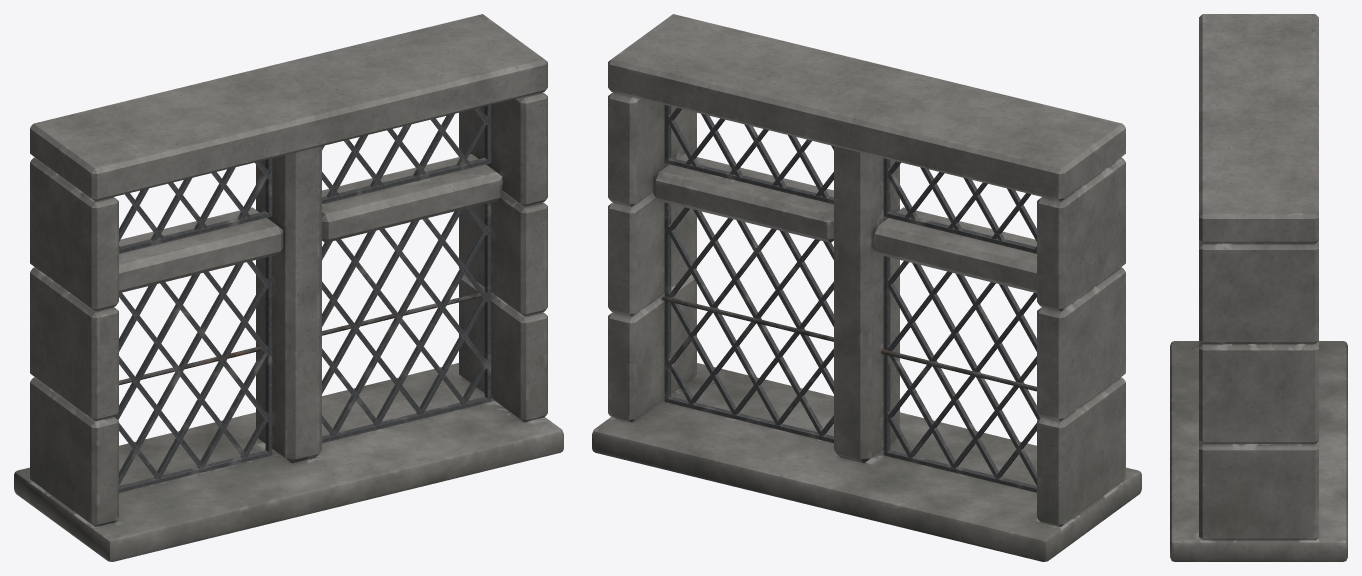
File: window_stone.glb
The picture shows the model from 3 angles, left to right: view 1: azimuth 30°, elevation 25°; view 2: azimuth 150°, elevation 25°; view 3: azimuth 270°, elevation 25°; orthographic projection. The views are drawn at different scales.
Visible parts, largest first — view 1: window_stone; view 2: window_stone; view 3: window_stone.
Boxes of the visible parts, x1,y1,x2,y2 form: window_stone: (14, 14, 563, 561); window_stone: (592, 14, 1141, 561); window_stone: (1170, 14, 1347, 561).
Size of the model in its own units: 1 by 0.8 by 0.37.
1 material, 1 textured.
